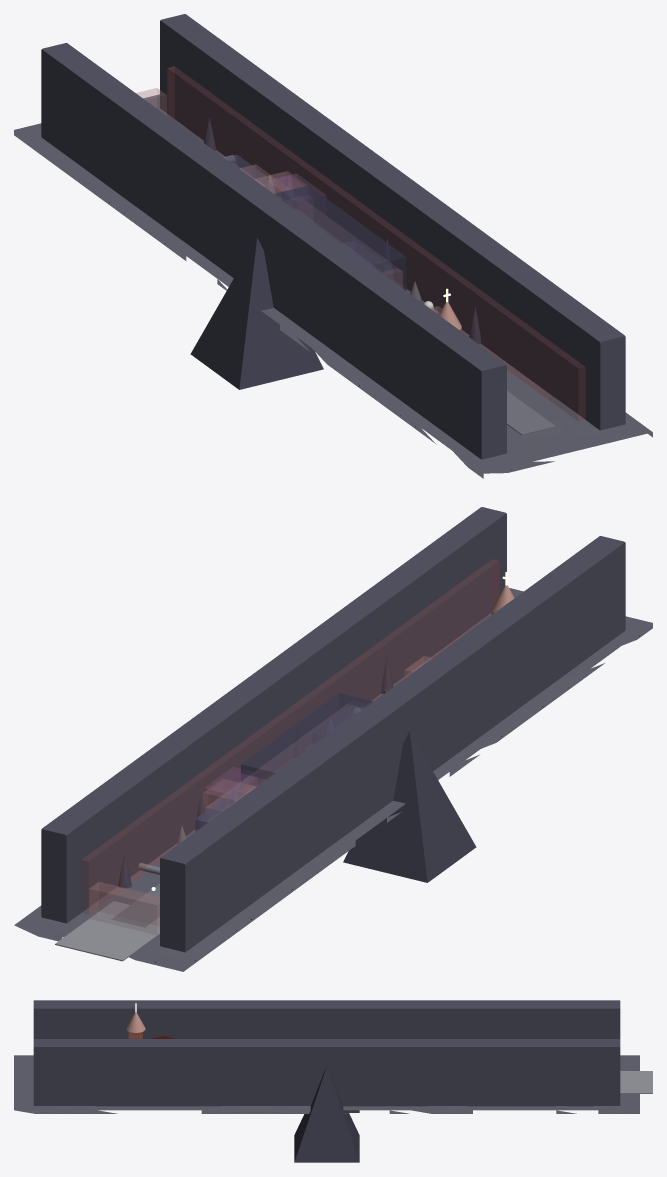
Rendered from valley_shadow_death.glb.
3 views of the same model, one above another, from view 1: azimuth 30°, elevation 25°; view 2: azimuth 150°, elevation 25°; view 3: azimuth 270°, elevation 25° (orthographic). The views are drawn at different scales.
Visible parts, largest first — view 1: ENV_ShadowValley_RightWall, ENV_ShadowValley_LeftWall, COL_NarrowCliffEdge, ENV_ShadowValley_Ground, VIS_PROP_Ridge_ChasmL, COL_DarknessDeepZone, TRIGGER_ShadowCollapseCheck, ENV_ShadowValley_NarrowPath, COL_FalseVoiceZone_Right; view 2: ENV_ShadowValley_RightWall, ENV_ShadowValley_LeftWall, COL_NarrowCliffEdge, ENV_ShadowValley_Ground, VIS_PROP_Ridge_ChasmL, COL_DarknessDeepZone, ENV_ShadowValley_ExitSlope, TRIGGER_Exit_VerticalSliceEnd, TRIGGER_ShadowCollapseCheck, COL_FalseVoiceZone_Right, ENV_ShadowValley_NarrowPath, TRIGGER_FalseVoice_Right; view 3: ENV_ShadowValley_LeftWall, ENV_ShadowValley_RightWall, ENV_ShadowValley_Ground, VIS_PROP_Ridge_ChasmR, ENV_ShadowValley_ExitSlope, VIS_PROP_Chapel.
Boxes of the visible parts, bbox=[...] form: ENV_ShadowValley_RightWall: bbox=[41, 43, 506, 459]; ENV_ShadowValley_LeftWall: bbox=[160, 14, 625, 430]; COL_NarrowCliffEdge: bbox=[167, 66, 585, 420]; ENV_ShadowValley_Ground: bbox=[14, 94, 652, 478]; VIS_PROP_Ridge_ChasmL: bbox=[190, 238, 323, 389]; COL_DarknessDeepZone: bbox=[274, 185, 406, 290]; TRIGGER_ShadowCollapseCheck: bbox=[239, 164, 402, 288]; ENV_ShadowValley_NarrowPath: bbox=[507, 391, 555, 435]; COL_FalseVoiceZone_Right: bbox=[270, 173, 325, 215]; ENV_ShadowValley_RightWall: bbox=[160, 536, 625, 952]; ENV_ShadowValley_LeftWall: bbox=[41, 507, 506, 923]; COL_NarrowCliffEdge: bbox=[81, 559, 499, 914]; ENV_ShadowValley_Ground: bbox=[14, 588, 652, 971]; VIS_PROP_Ridge_ChasmL: bbox=[343, 731, 476, 882]; COL_DarknessDeepZone: bbox=[241, 693, 373, 786]; ENV_ShadowValley_ExitSlope: bbox=[55, 901, 159, 961]; TRIGGER_Exit_VerticalSliceEnd: bbox=[89, 882, 159, 934]; TRIGGER_ShadowCollapseCheck: bbox=[205, 704, 349, 820]; COL_FalseVoiceZone_Right: bbox=[204, 767, 262, 806]; ENV_ShadowValley_NarrowPath: bbox=[111, 884, 159, 927]; TRIGGER_FalseVoice_Right: bbox=[203, 779, 255, 810]; ENV_ShadowValley_LeftWall: bbox=[33, 1039, 620, 1106]; ENV_ShadowValley_RightWall: bbox=[33, 1000, 620, 1038]; ENV_ShadowValley_Ground: bbox=[14, 1055, 639, 1113]; VIS_PROP_Ridge_ChasmR: bbox=[294, 1067, 359, 1162]; ENV_ShadowValley_ExitSlope: bbox=[620, 1071, 652, 1093]; VIS_PROP_Chapel: bbox=[126, 1012, 145, 1032].
Bounding box in the file's own units: 28 × 18.75 × 98.
Materials: 29 (2 with a texture image).
